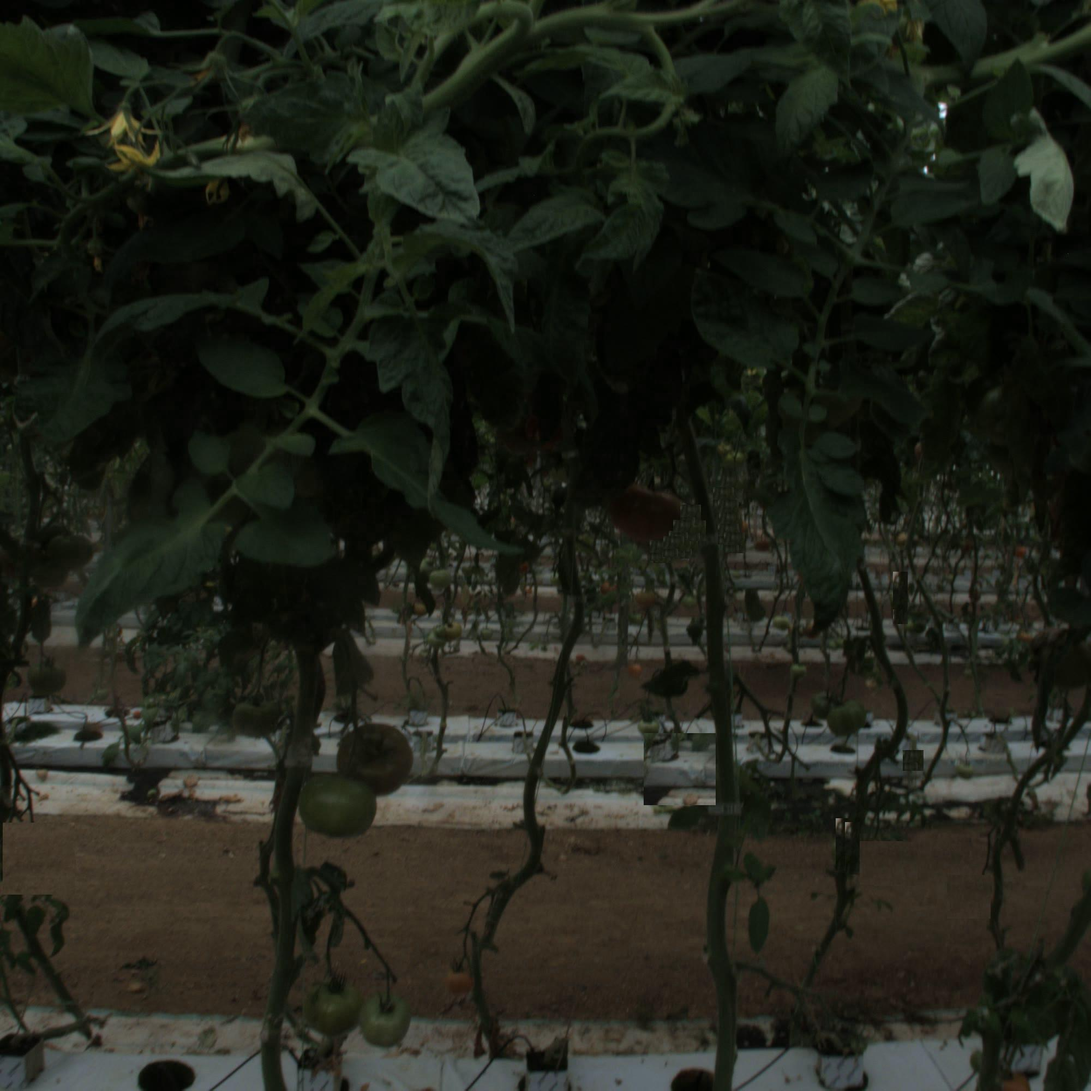fully-ripe: (611, 471, 680, 540)
semi-ripe: (335, 722, 412, 799)
unripe: (297, 762, 375, 840), (358, 992, 413, 1047), (307, 980, 361, 1034)
